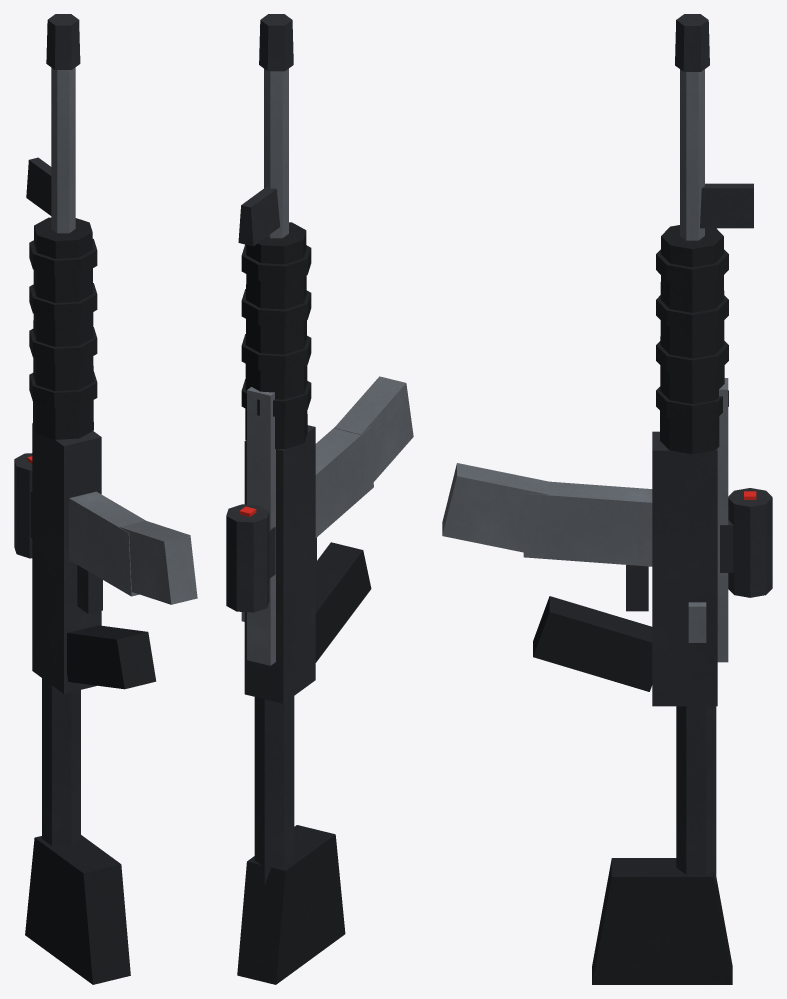
The model's file is weapon_m4.glb.
The picture shows the model from 3 angles, left to right: view 1: azimuth 30°, elevation 25°; view 2: azimuth 150°, elevation 25°; view 3: azimuth 270°, elevation 25°; orthographic projection. The views are drawn at different scales.
Visible parts, largest first — view 1: Weapon_M4; view 2: Weapon_M4; view 3: Weapon_M4.
Boxes of the visible parts, x1,y1,x2,y2 form: Weapon_M4: (14,14,197,984); Weapon_M4: (226,14,413,984); Weapon_M4: (442,14,772,984).
Bounding box in the file's own units: 0.058 × 0.8405 × 0.2635.
Materials: 4 (3 with a texture image).
